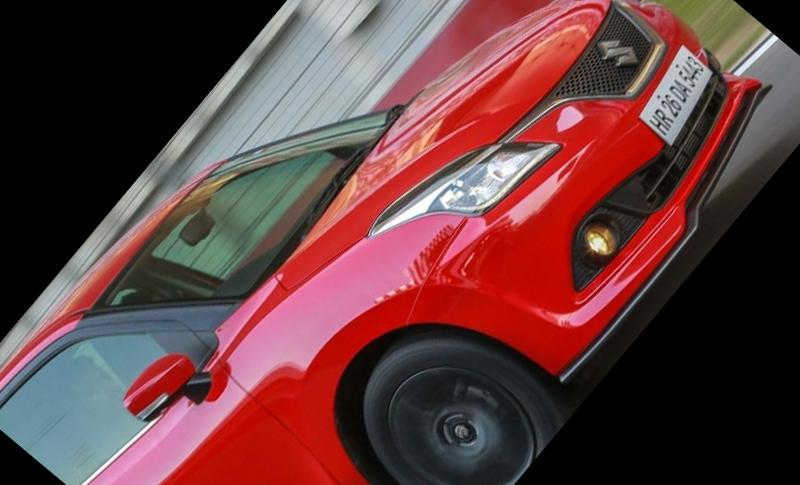plate: (625, 35, 735, 152)
